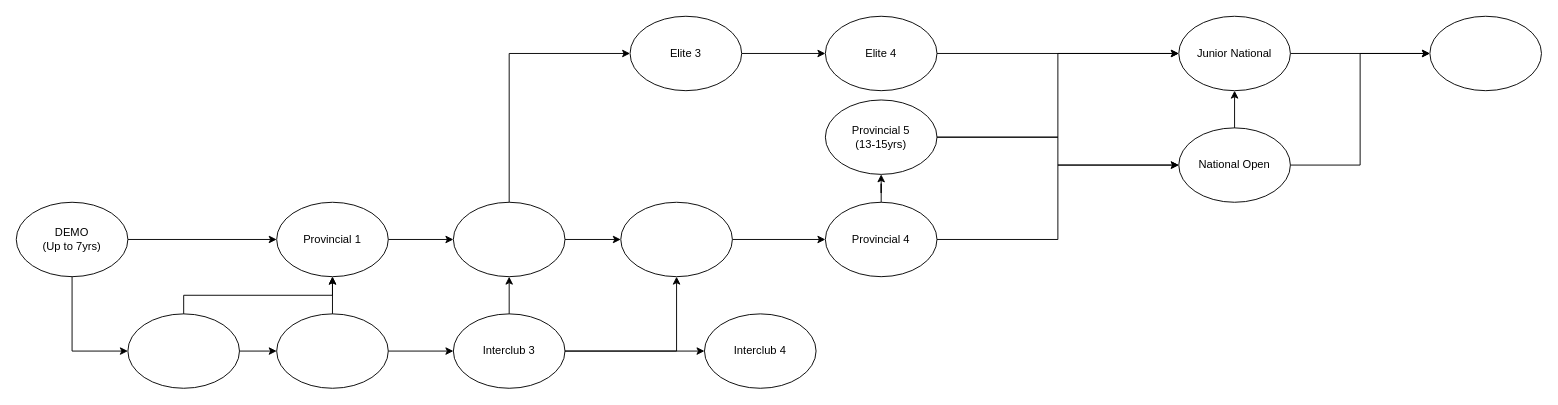
The diagram is 1558 pixels wide and 405 high, and some of its shapes have lost their labels. The shapes that lost their labels are listed below. From the top down, each one's box as (x1, y1, x2, y2) in pixels, then its label:
(1429, 15, 1541, 91): Senior National
(452, 201, 565, 277): Provincial 2
(620, 201, 732, 277): Provincial 3
(127, 313, 239, 388): Interclub 1
(276, 313, 388, 388): Interclub 2
